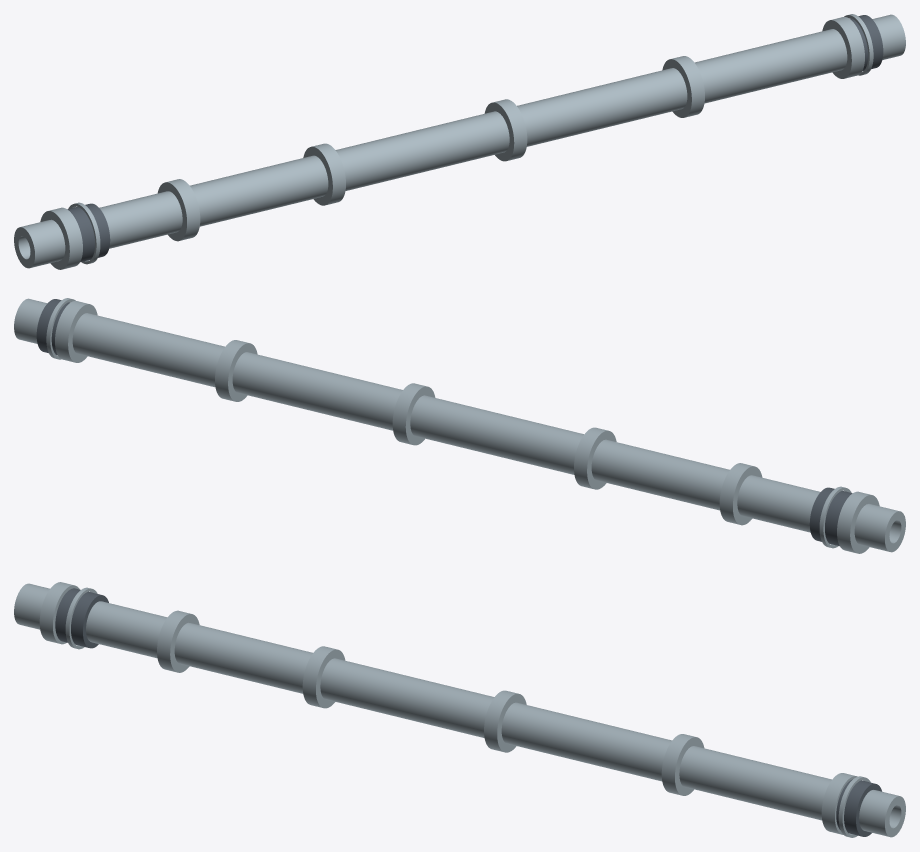
Rendered from shaft-single-spool.glb.
3 renders of one model, top to bottom at view 1: azimuth 30°, elevation 25°; view 2: azimuth 150°, elevation 25°; view 3: azimuth 330°, elevation 25°, orthographic.
Visible parts, largest first — view 1: shaft-single-spool - steel, shaft-single-spool - seal; view 2: shaft-single-spool - steel, shaft-single-spool - seal; view 3: shaft-single-spool - steel, shaft-single-spool - seal.
Part boxes in pixels (box(x1,y1,x2,y2)): shaft-single-spool - steel: box(14, 14, 905, 269); shaft-single-spool - seal: box(67, 15, 883, 262); shaft-single-spool - steel: box(14, 298, 905, 553); shaft-single-spool - seal: box(36, 299, 852, 546); shaft-single-spool - steel: box(14, 582, 905, 837); shaft-single-spool - seal: box(55, 588, 881, 836).
Size of the model in its own units: 4.9 by 0.302 by 0.3019.
